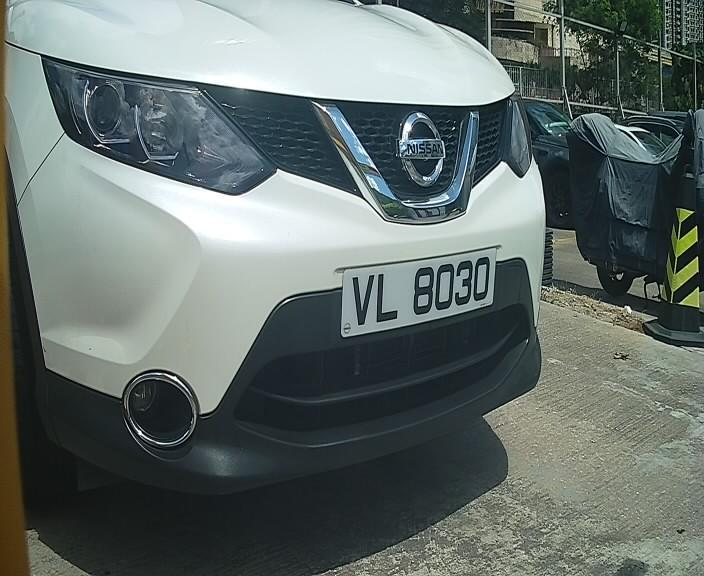License Plate: (337, 240, 491, 340)
